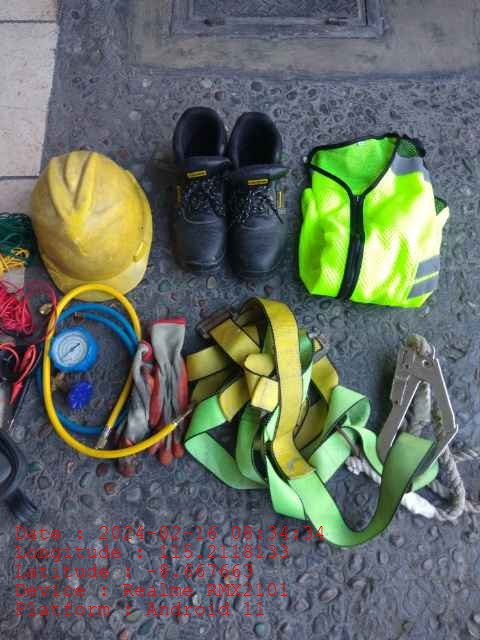HELM: (29, 149, 154, 303)
ROMPI: (300, 135, 448, 306)
SEPATU: (170, 105, 287, 280)
